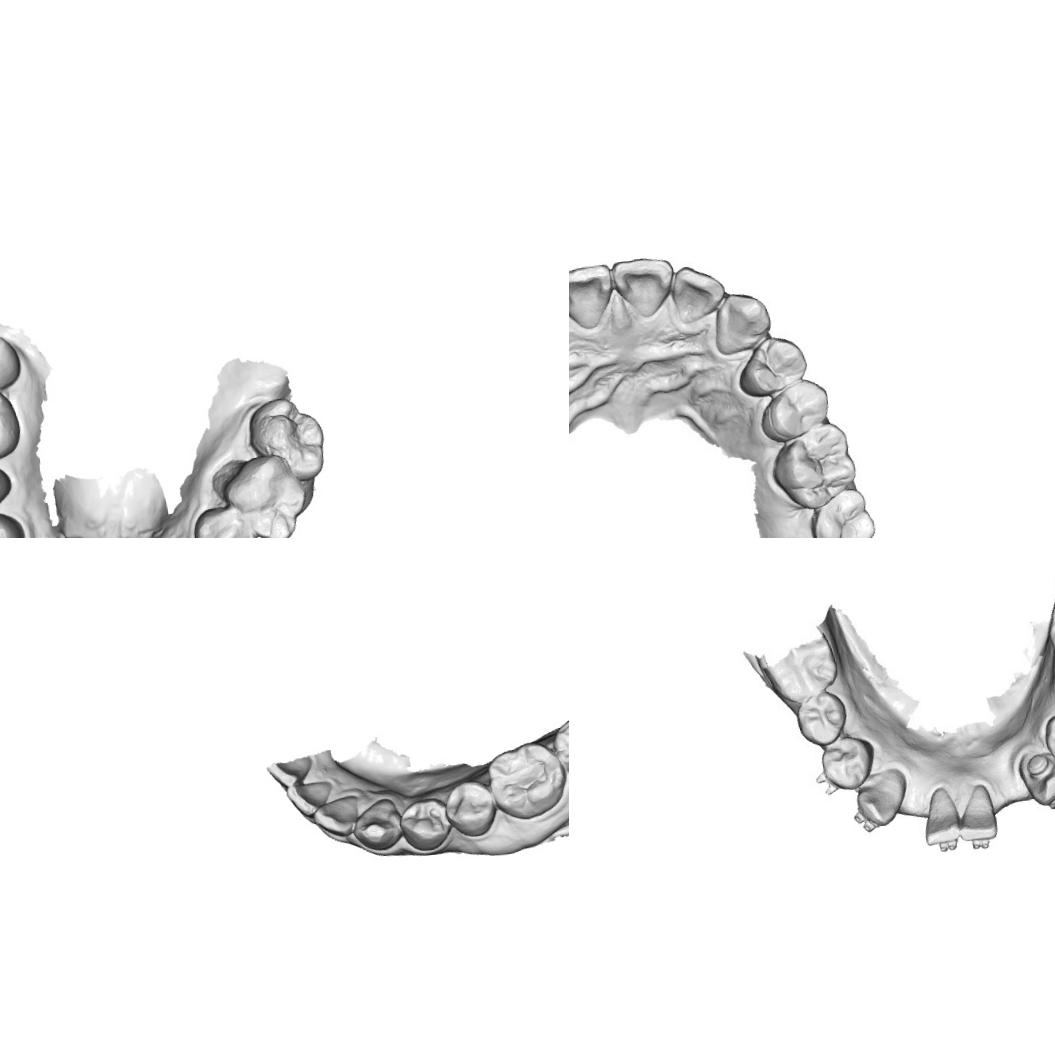canine: (708, 288, 774, 357), (850, 766, 912, 831), (350, 795, 404, 855), (1014, 746, 1055, 808)
incisor: (608, 253, 681, 322), (666, 258, 726, 326), (569, 261, 617, 333), (956, 781, 1002, 847), (921, 784, 963, 852), (311, 793, 362, 840), (284, 777, 336, 820)
molar: (764, 418, 865, 516), (243, 393, 330, 488), (221, 450, 314, 538), (483, 738, 569, 823), (755, 632, 842, 708), (803, 485, 879, 538), (0, 384, 24, 468), (549, 699, 569, 787), (0, 331, 23, 405)
premolar: (732, 331, 810, 402), (754, 376, 835, 444), (816, 733, 880, 795), (442, 777, 500, 840), (792, 688, 850, 747), (396, 794, 453, 854), (189, 501, 258, 538), (1040, 706, 1055, 768)
